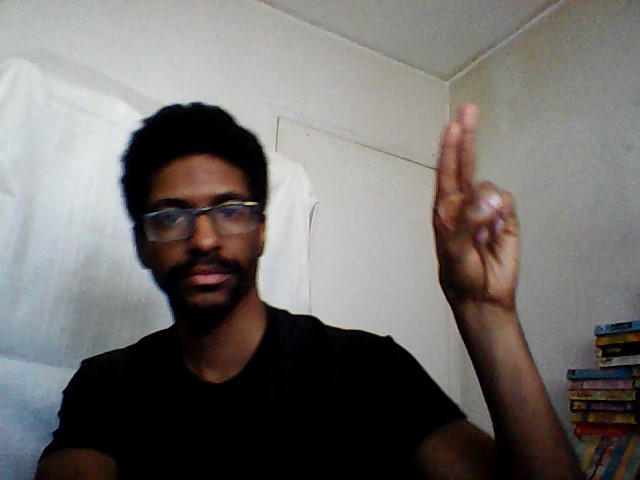u: (427, 95, 525, 311)
